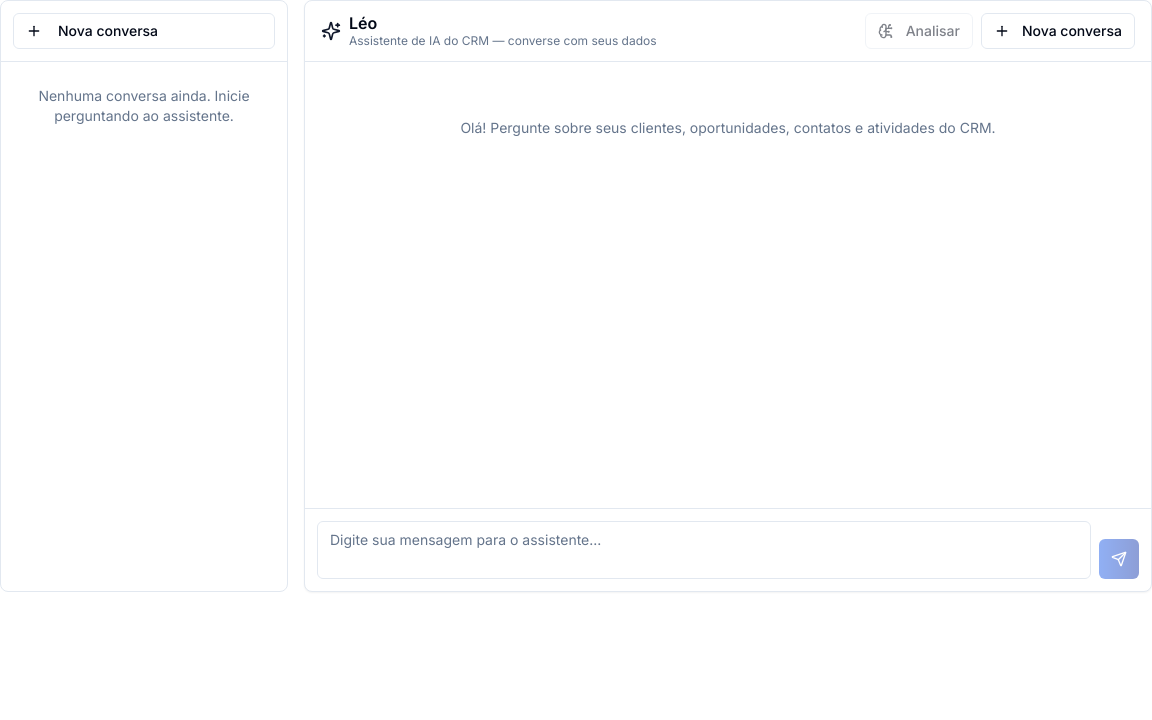
Test: AiChatAssistant (AI-04) › mostra estado de processamento (loading) e mensagem de análise
The image size is (1152, 720).
Type "quem é o cliente?" into the text box labelled "mensagem para o assistente".
click(704, 550); type("quem é o cliente?")  # box [317,521,1091,579]
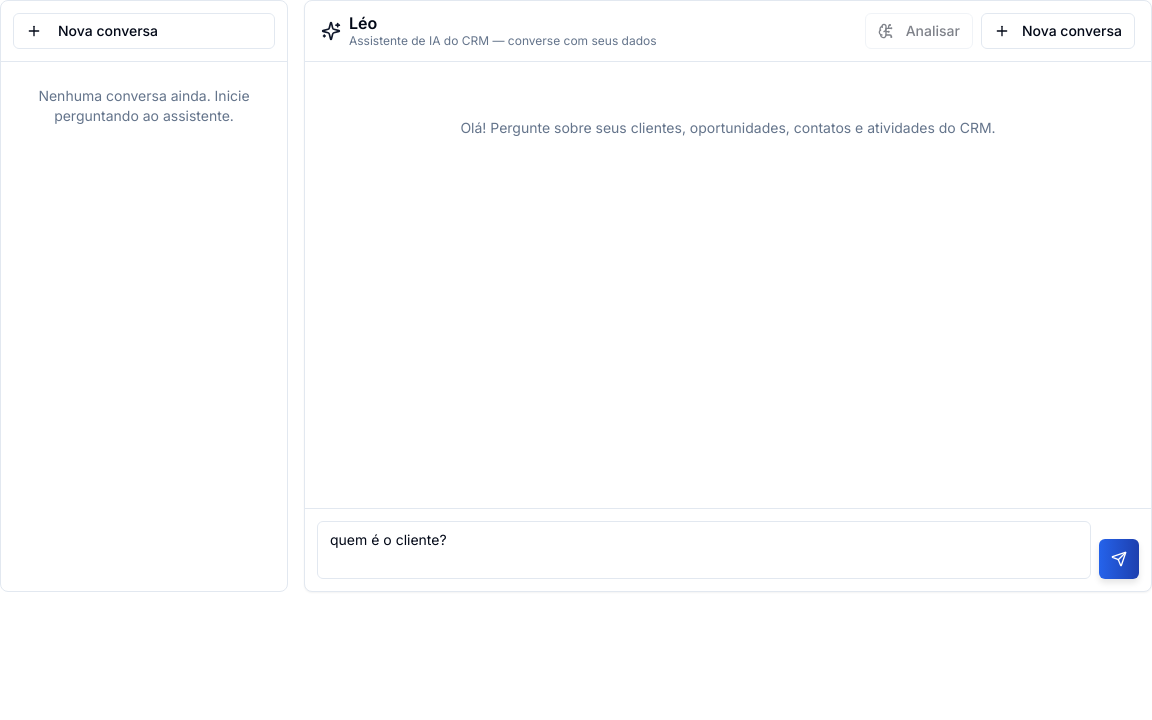
Click the button named "Enviar mensagem".
click(1119, 559)  # box [1099,539,1139,579]
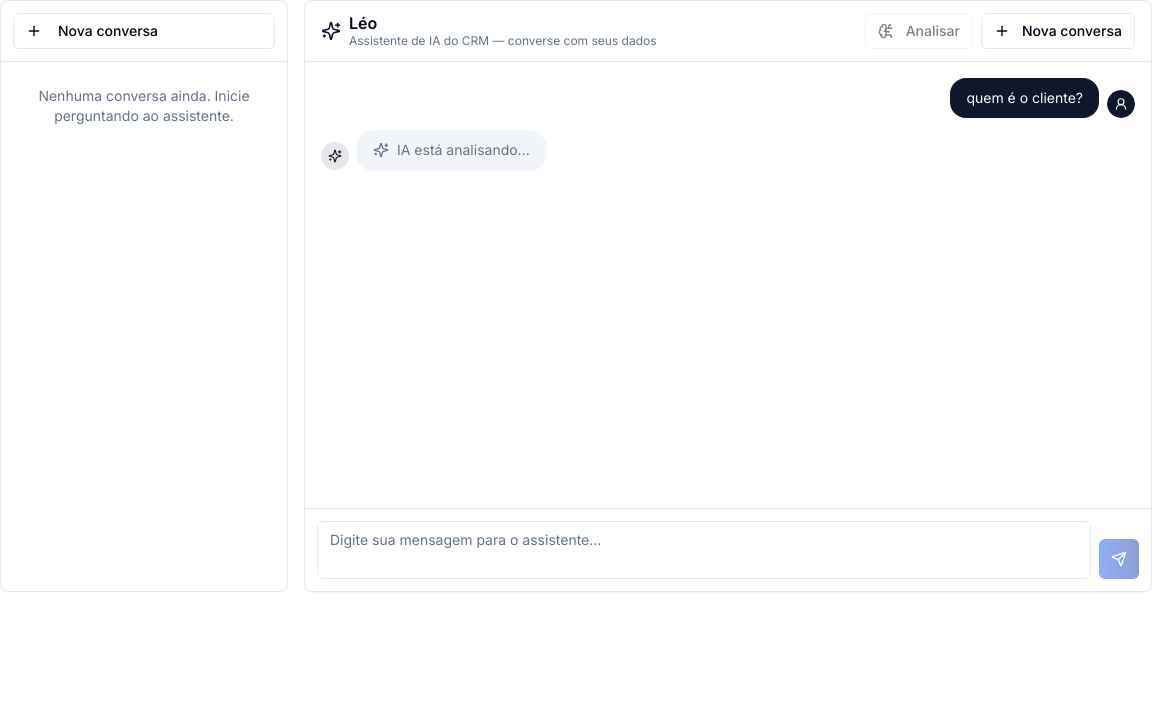
expect the text "IA está analisando..." is shown: met, box [373,140,530,160]
